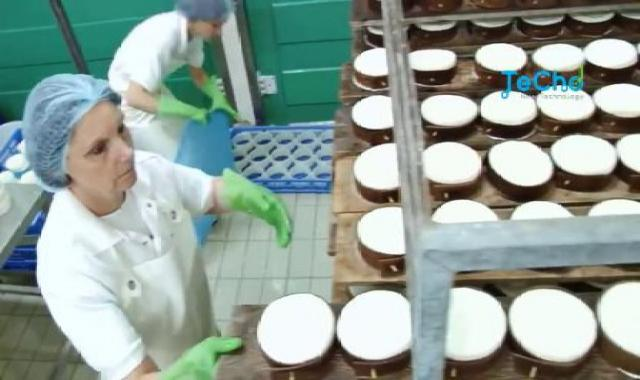hairnet: (26, 66, 123, 195), (154, 0, 252, 25)
